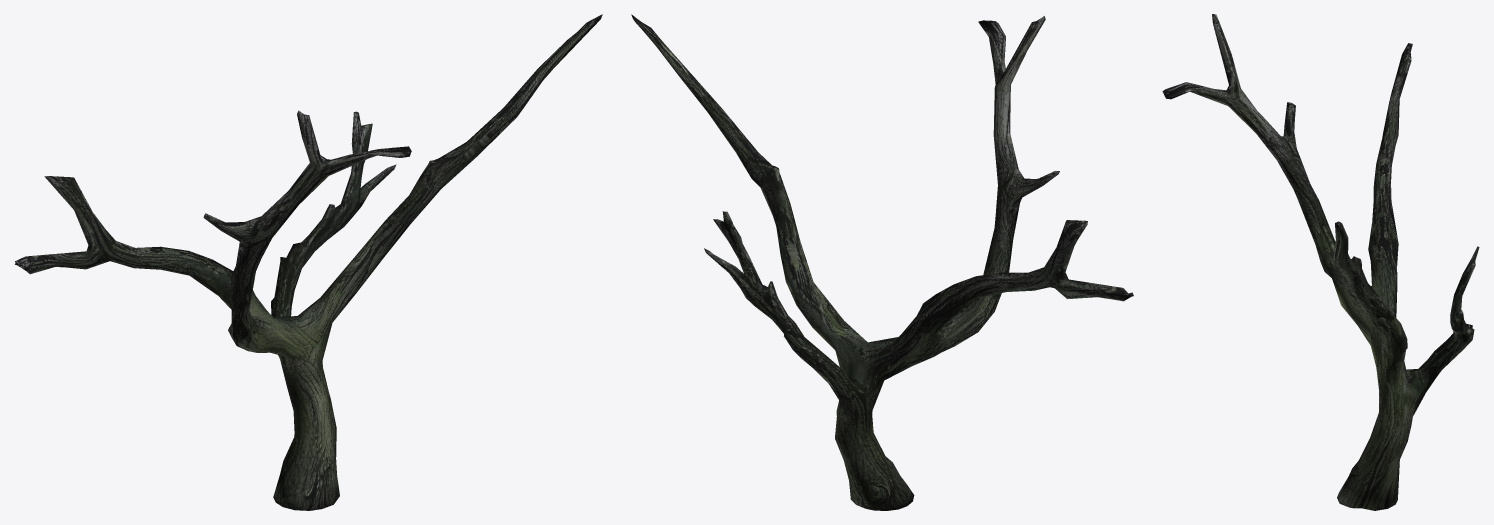
Rendered from Mud_Tree_003.fbx.
3 views of the same model, side by side, from view 1: azimuth 30°, elevation 25°; view 2: azimuth 150°, elevation 25°; view 3: azimuth 270°, elevation 25° (orthographic). The views are drawn at different scales.
Parts seen in each view (by area): view 1: Mud_Tree_003_LOD0; view 2: Mud_Tree_003_LOD0; view 3: Mud_Tree_003_LOD0.
Boxes of the visible parts, box(x1,y1,x2,y2) form: Mud_Tree_003_LOD0: box(15, 14, 602, 510); Mud_Tree_003_LOD0: box(631, 14, 1133, 510); Mud_Tree_003_LOD0: box(1162, 14, 1479, 510).
Size of what is drawn, in the model's own units: 1278 by 1023 by 662.
Materials: 1 (1 with a texture image).
